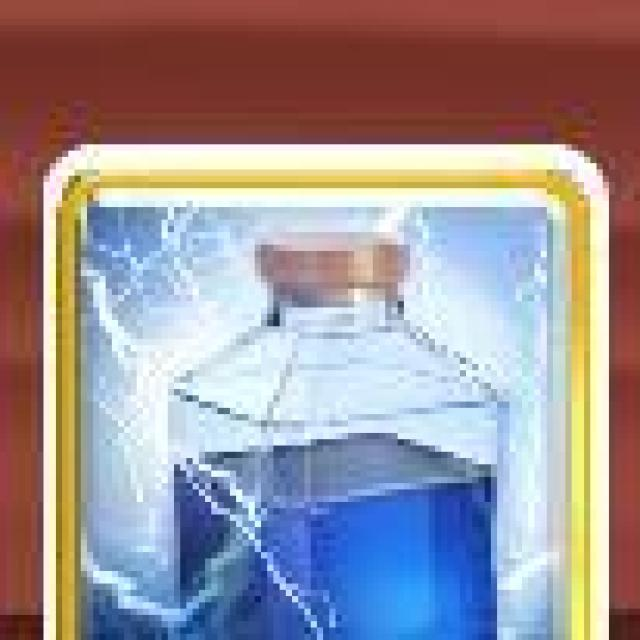Lightning: (42, 142, 610, 640)
